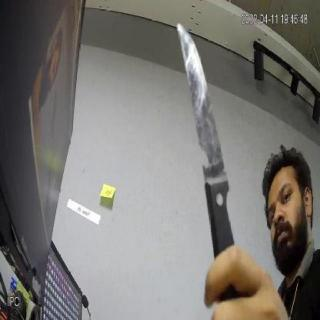knife: (174, 18, 242, 220)
